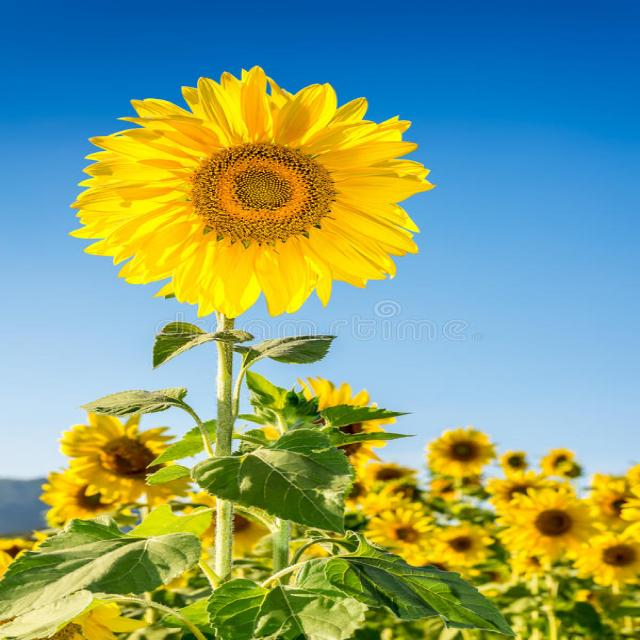sunflower: (82, 68, 445, 334), (54, 408, 195, 508), (486, 485, 598, 561), (410, 421, 502, 476), (372, 507, 444, 566)
